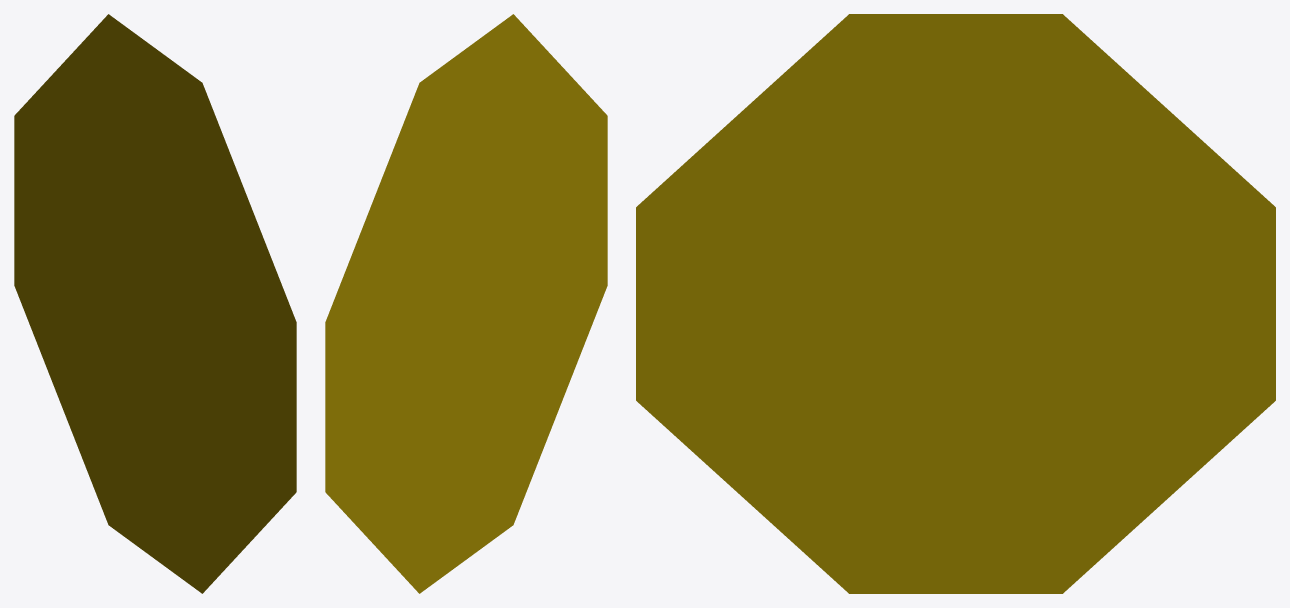
The model's file is BlackPoint.fbx.
3 renders of one model, left to right at view 1: azimuth 30°, elevation 25°; view 2: azimuth 150°, elevation 25°; view 3: azimuth 270°, elevation 25°, orthographic. The views are drawn at different scales.
Parts seen in each view (by area): view 1: PathBlock; view 2: PathBlock; view 3: PathBlock.
Boxes of the visible parts, x1,y1,x2,y2 form: PathBlock: [14, 14, 296, 593]; PathBlock: [325, 14, 607, 593]; PathBlock: [636, 14, 1275, 593].
Bounding box in the file's own units: 8.31e-07 × 3.97 × 3.97.
